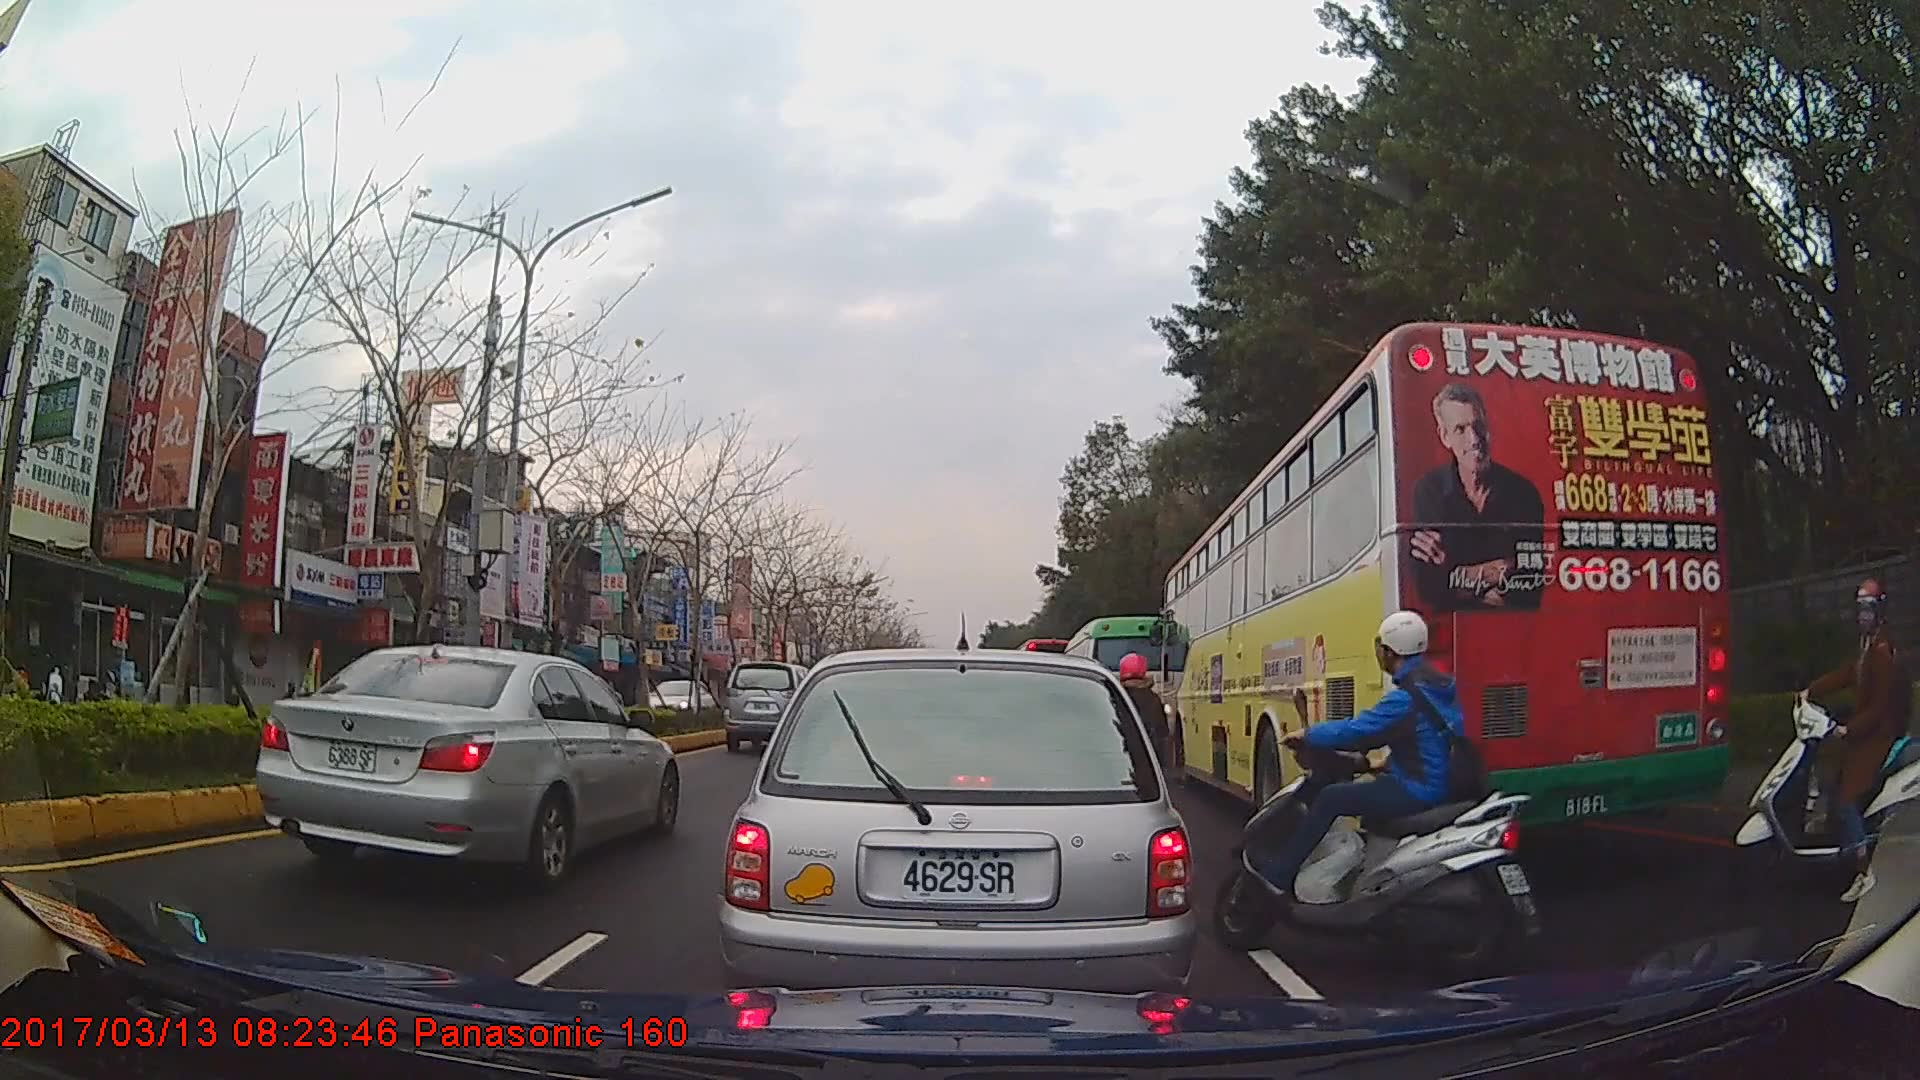rider: (1220, 615, 1538, 975), (1736, 573, 1920, 896), (1103, 650, 1173, 826)
vehicle: (1160, 320, 1727, 853), (716, 646, 1196, 1031), (251, 641, 677, 886), (1060, 616, 1188, 760), (723, 660, 820, 752), (632, 670, 712, 723)
